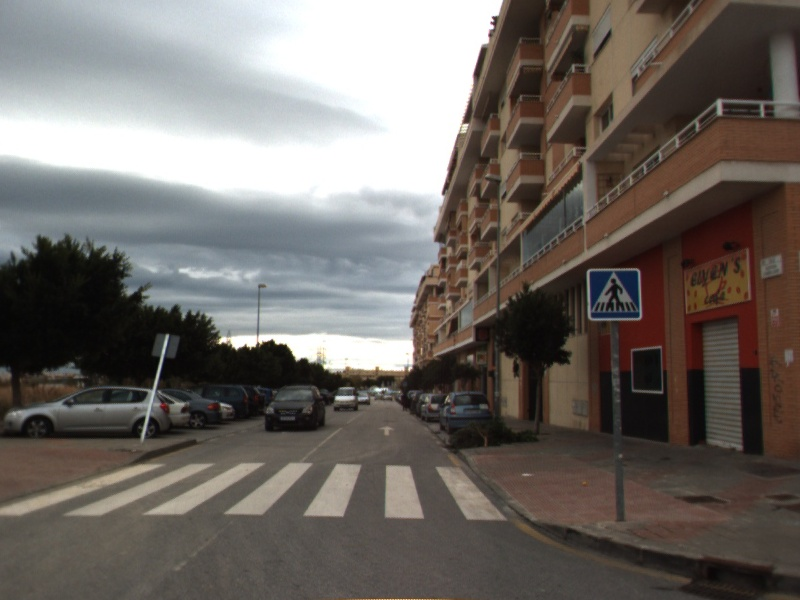STRAIGHT: (376, 423, 397, 438)
